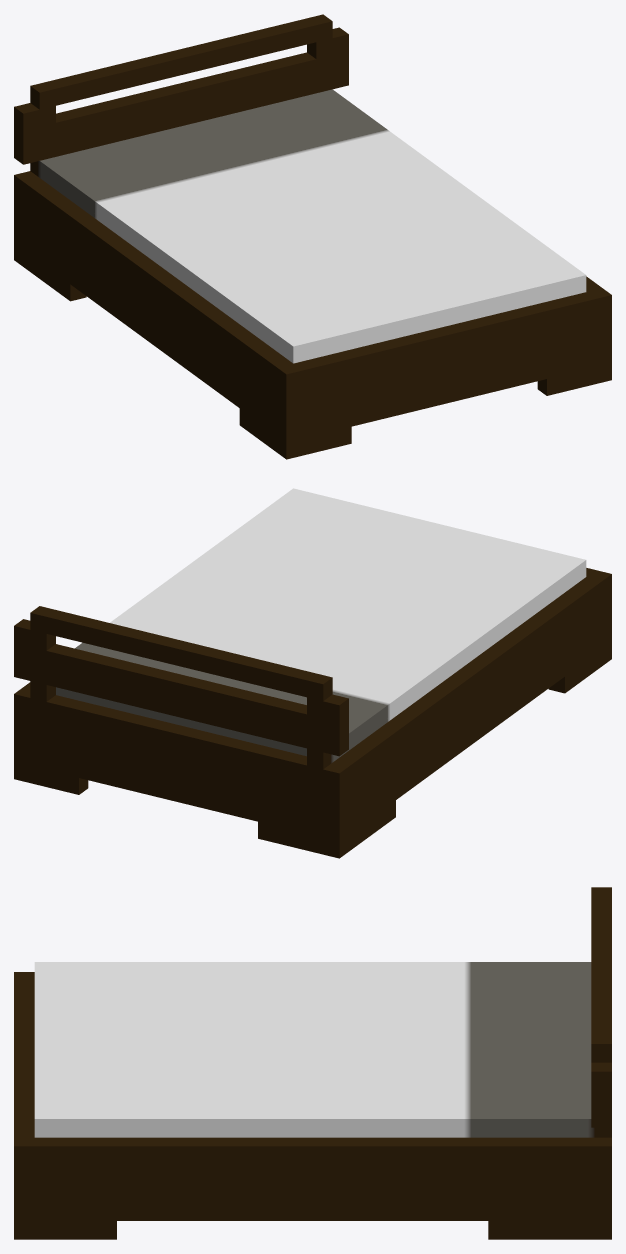
Rendered from Bed1.obj.
3 renders of one model, top to bottom at view 1: azimuth 30°, elevation 25°; view 2: azimuth 150°, elevation 25°; view 3: azimuth 270°, elevation 25°, orthographic. The views are drawn at different scales.
Visible parts, largest first — view 1: Bed1; view 2: Bed1; view 3: Bed1.
Part boxes in pixels (box(x1,y1,x2,y2)): Bed1: box(14, 14, 611, 459); Bed1: box(14, 488, 611, 858); Bed1: box(14, 887, 611, 1239).
Size of the model in its own units: 20 by 10 by 29.
